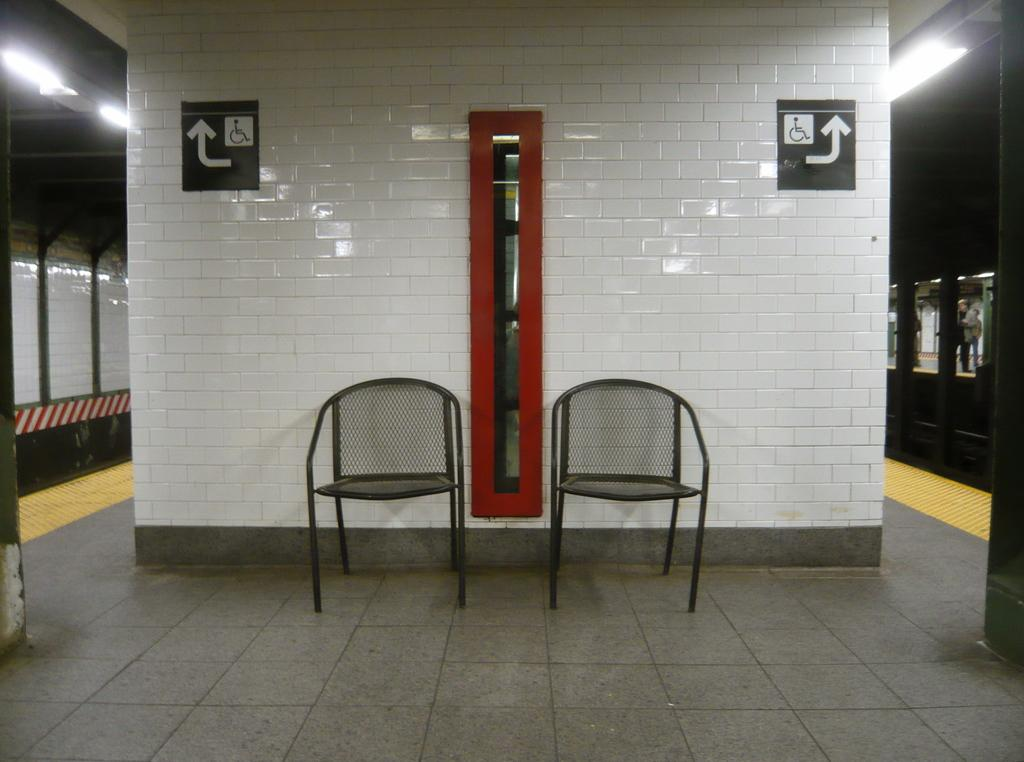Chair: (301, 371, 483, 596), (550, 373, 712, 611)
